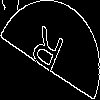R: (25, 25, 66, 82)
